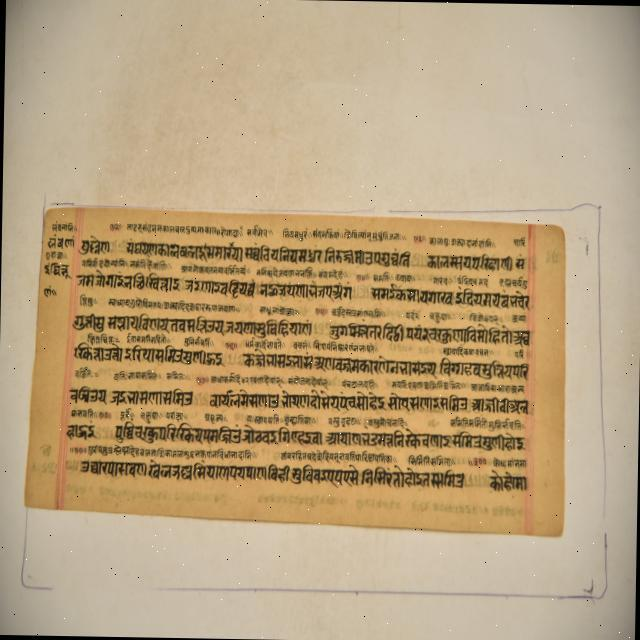text_paragraph: (19, 204, 561, 535)
